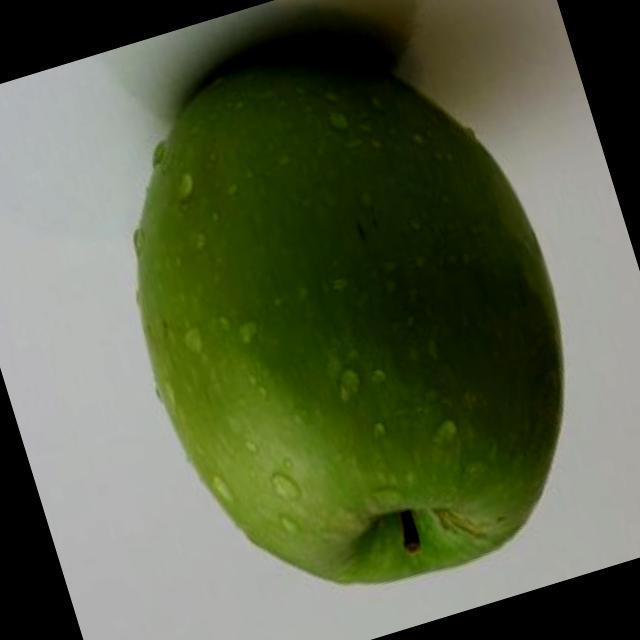Green Apple: (132, 56, 566, 586)
